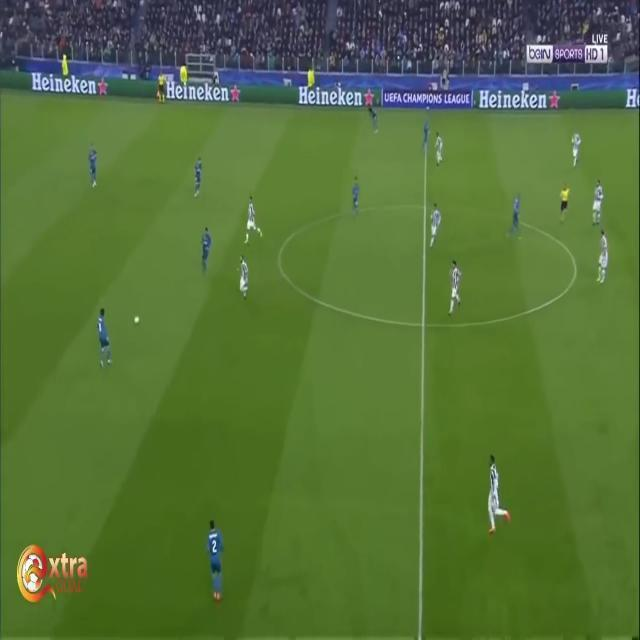ball: (133, 312, 141, 326)
player: (483, 451, 513, 543), (206, 517, 227, 603), (94, 303, 117, 368), (85, 136, 104, 194), (242, 195, 262, 248), (594, 230, 611, 288), (199, 222, 216, 279), (235, 253, 254, 302), (447, 260, 461, 316), (428, 204, 443, 254), (510, 192, 524, 244), (592, 177, 605, 227), (193, 152, 206, 200), (569, 129, 583, 172), (434, 131, 447, 175), (351, 175, 363, 220), (368, 103, 381, 138), (421, 118, 432, 153)
referee: (558, 184, 573, 229)
